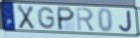0: (97, 7, 115, 34)
G: (36, 6, 57, 30)
J: (119, 10, 134, 33)
P: (57, 6, 76, 32)
R: (75, 7, 96, 32)
X: (16, 5, 35, 31)
